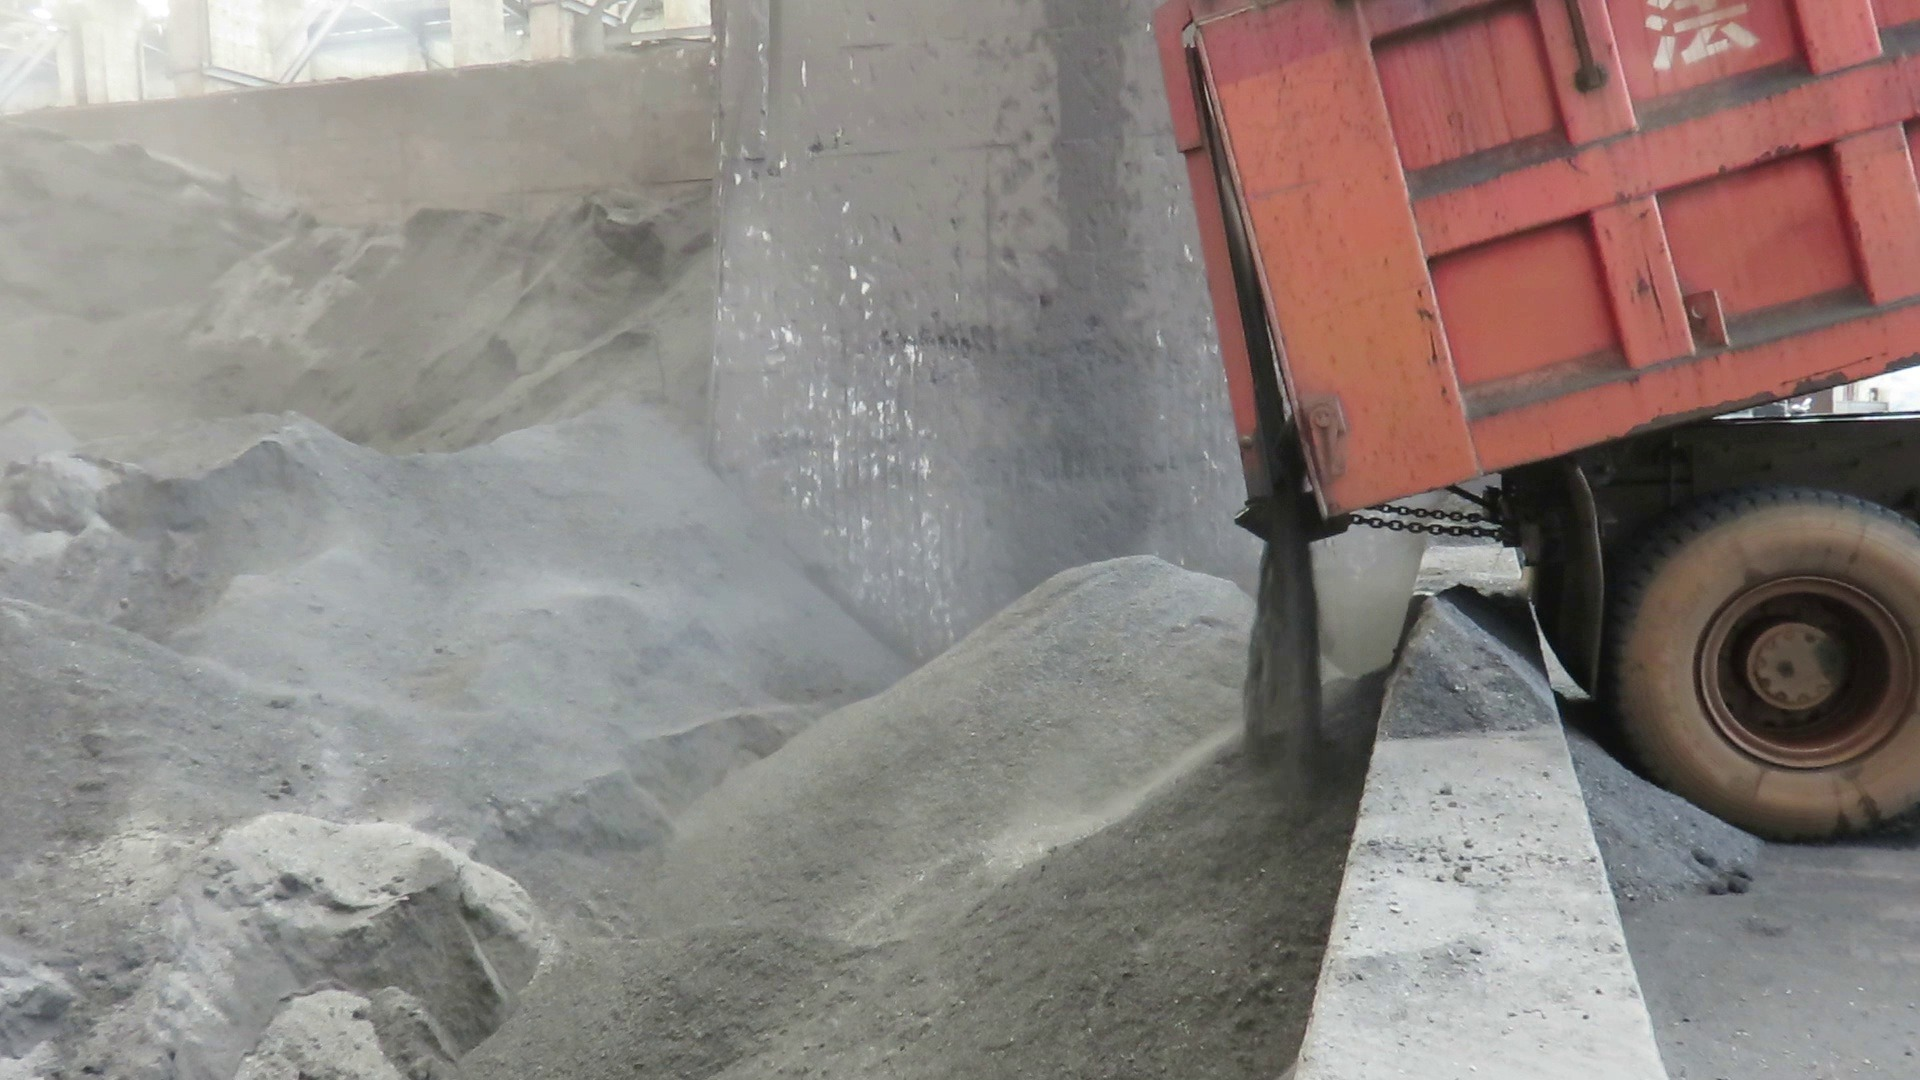dust: (9, 25, 1178, 829)
truck: (1129, 0, 1920, 886)
